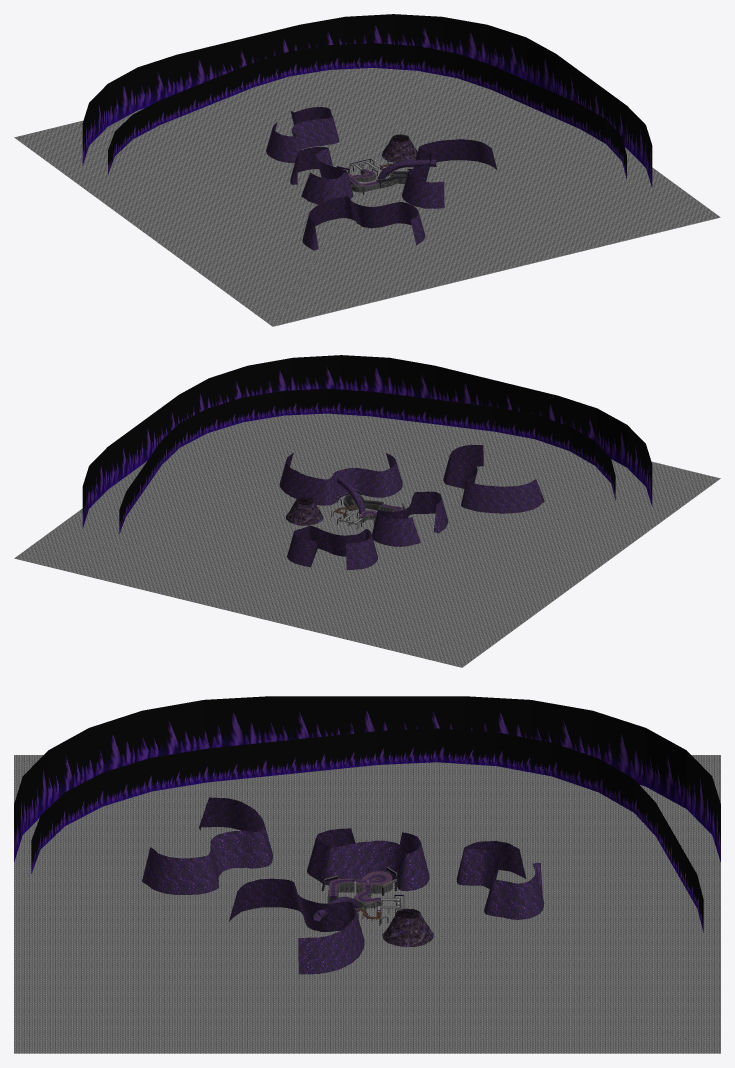
The picture shows the model from 3 angles, top to bottom: view 1: azimuth 30°, elevation 25°; view 2: azimuth 150°, elevation 25°; view 3: azimuth 270°, elevation 25°; orthographic projection. The views are drawn at different scales.
Visible parts, largest first — view 1: obj_lavaMesh, obj_mountainMesh.001, obj_magmawallMesh, obj_volcanrockMesh; view 2: obj_lavaMesh, obj_mountainMesh.001, obj_magmawallMesh, obj_volcanrockMesh; view 3: obj_lavaMesh, obj_mountainMesh.001, obj_magmawallMesh, obj_volcanrockMesh, obj_rockMesh.004, obj_grassMesh.006.
Boxes of the visible parts, x1,y1,x2,y2 form: obj_lavaMesh: [14, 68, 720, 326]; obj_mountainMesh.001: [82, 14, 652, 187]; obj_magmawallMesh: [266, 107, 497, 250]; obj_volcanrockMesh: [381, 134, 417, 162]; obj_lavaMesh: [14, 413, 720, 667]; obj_mountainMesh.001: [82, 355, 652, 533]; obj_magmawallMesh: [279, 444, 544, 570]; obj_volcanrockMesh: [286, 497, 323, 525]; obj_lavaMesh: [14, 755, 720, 1053]; obj_mountainMesh.001: [14, 696, 720, 932]; obj_magmawallMesh: [142, 797, 544, 974]; obj_volcanrockMesh: [382, 908, 433, 947]; obj_rockMesh.004: [328, 878, 392, 908]; obj_grassMesh.006: [329, 871, 392, 902].
Size of the model in its own units: 629458 by 62239 by 629458.
22 materials, 22 textured.
